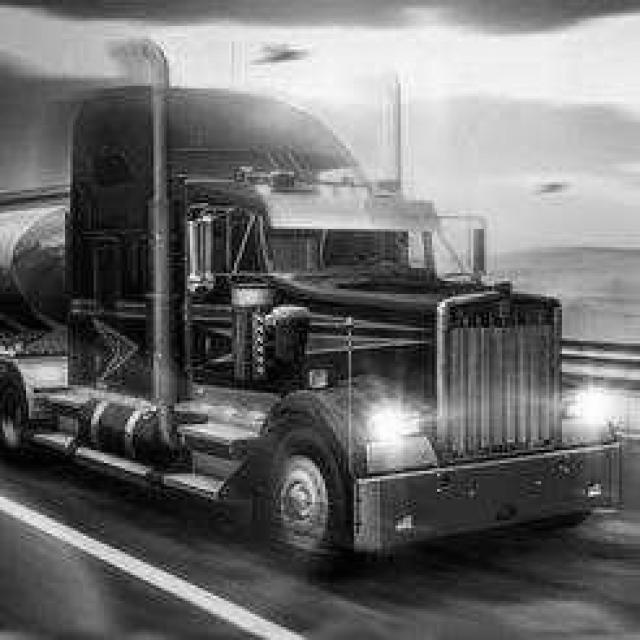Truck: (40, 86, 619, 553)
